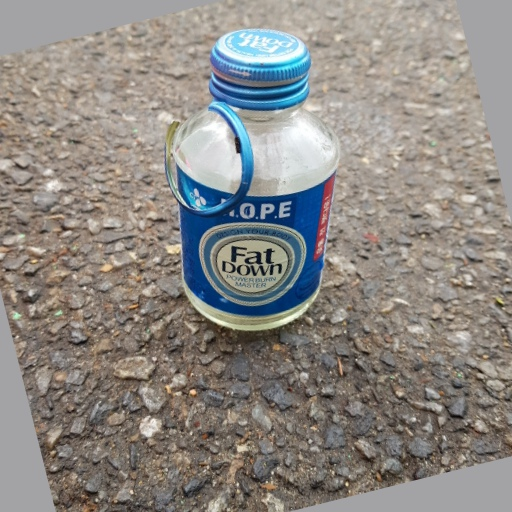Glass_4: (164, 27, 339, 331)
